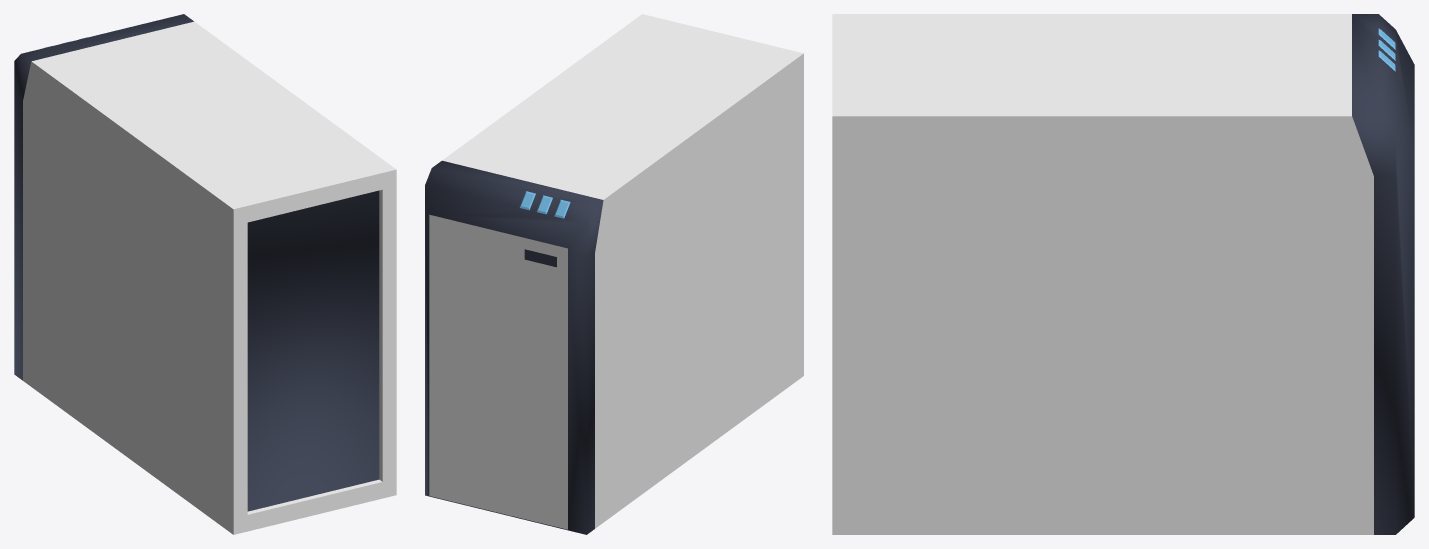
Rendered from computer2.glb.
The picture shows the model from 3 angles, left to right: view 1: azimuth 30°, elevation 25°; view 2: azimuth 150°, elevation 25°; view 3: azimuth 270°, elevation 25°; orthographic projection. The views are drawn at different scales.
Parts seen in each view (by area): view 1: (item)computer1[0]; view 2: (item)computer1[0]; view 3: (item)computer1[0].
Boxes of the visible parts, x1,y1,x2,y2 form: (item)computer1[0]: (14,14,396,534); (item)computer1[0]: (425,14,803,534); (item)computer1[0]: (832,14,1414,534).
Bounding box in the file's own units: 0.9763 × 1.86 × 2.35.
1 material, 1 textured.
